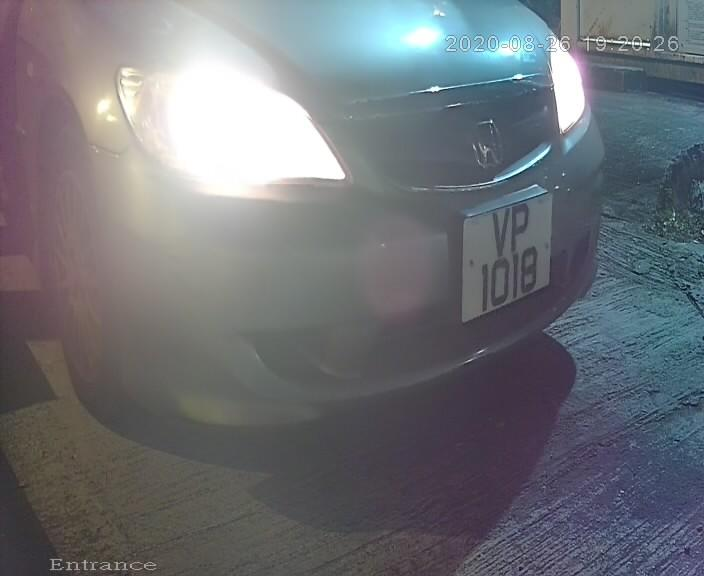License Plate: (434, 169, 568, 337)
